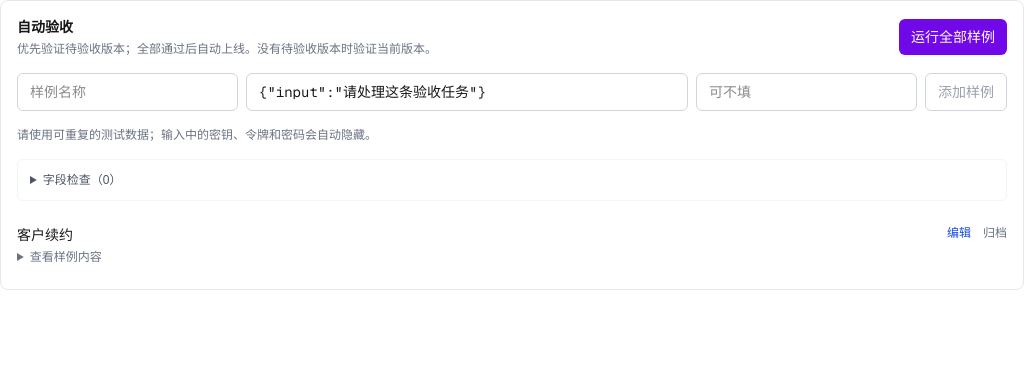
EvaluationPanel › 未使用常用检查时允许配置二十项字段检查
Click the button "编辑" at (959, 233), box [947,225,971,241]
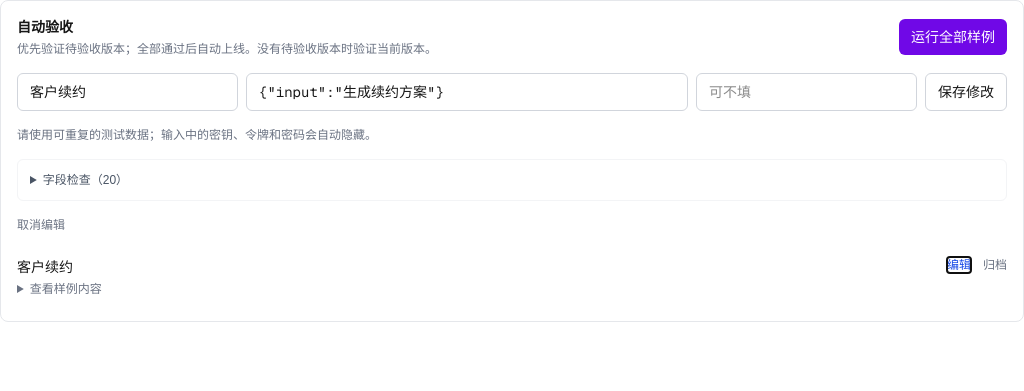
Now the heading "字段检查（20）" is shown, box [43,173,128,187]
Type "完成" into the field named "结果应包含" at (806, 92), box [696,73,917,111]
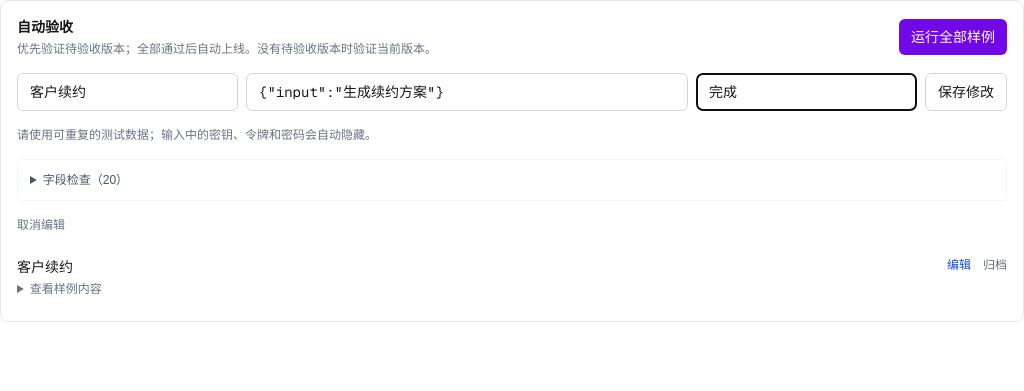
Click the button "保存修改" at (966, 92), box [925,73,1007,111]
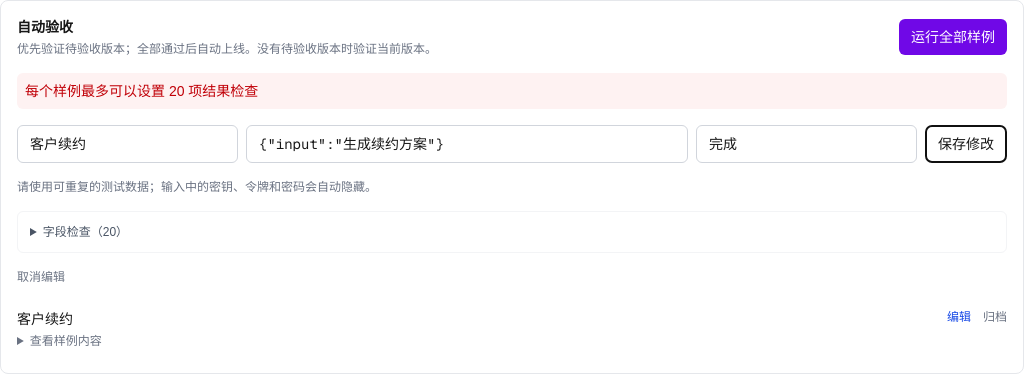
Now the message reads "每个样例最多可以设置 20 项结果检查", box [25,83,258,99]
